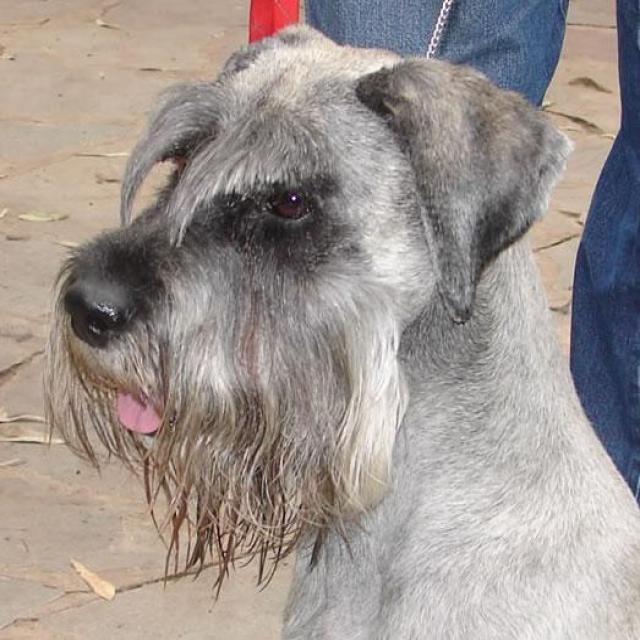standard_schnauzer: (42, 25, 638, 638)
